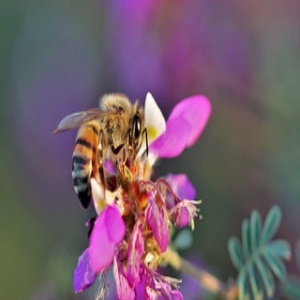bee: (49, 92, 153, 217)
